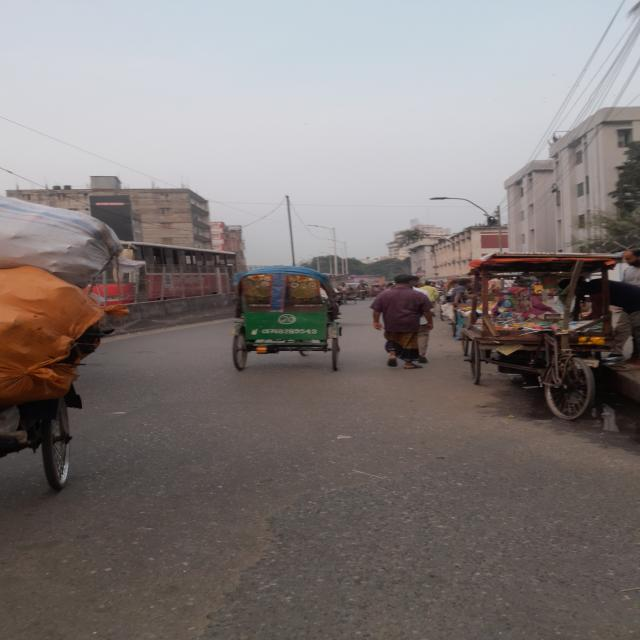person: (370, 274, 433, 370)
